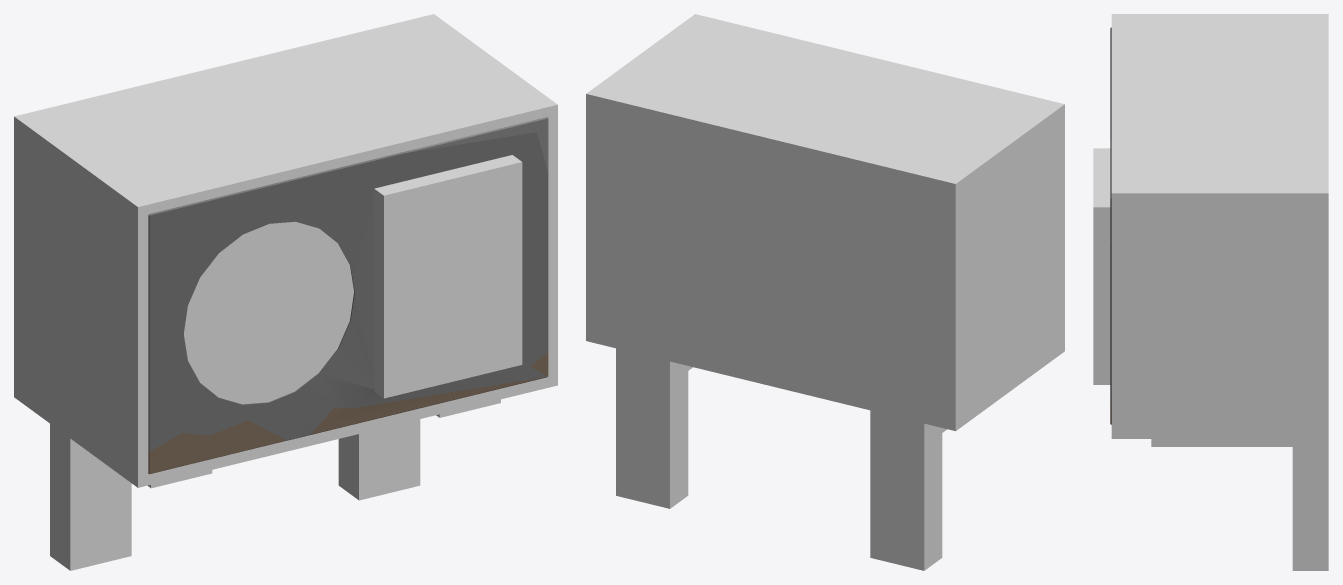
The model's file is model_ac_unit.fbx.
3 renders of one model, left to right at view 1: azimuth 30°, elevation 25°; view 2: azimuth 150°, elevation 25°; view 3: azimuth 270°, elevation 25°, orthographic. The views are drawn at different scales.
Visible parts, largest first — view 1: model_ac_unit_col, model_ac_unit; view 2: model_ac_unit_col; view 3: model_ac_unit_col, model_ac_unit.
Part boxes in pixels (box(x1,y1,x2,y2)): model_ac_unit_col: box(14, 14, 557, 570); model_ac_unit: box(148, 117, 548, 474); model_ac_unit_col: box(586, 14, 1064, 570); model_ac_unit_col: box(1093, 14, 1328, 570); model_ac_unit: box(1110, 27, 1111, 424).
Bounding box in the file's own units: 136 × 139 × 75.48.
2 materials, 1 textured.
